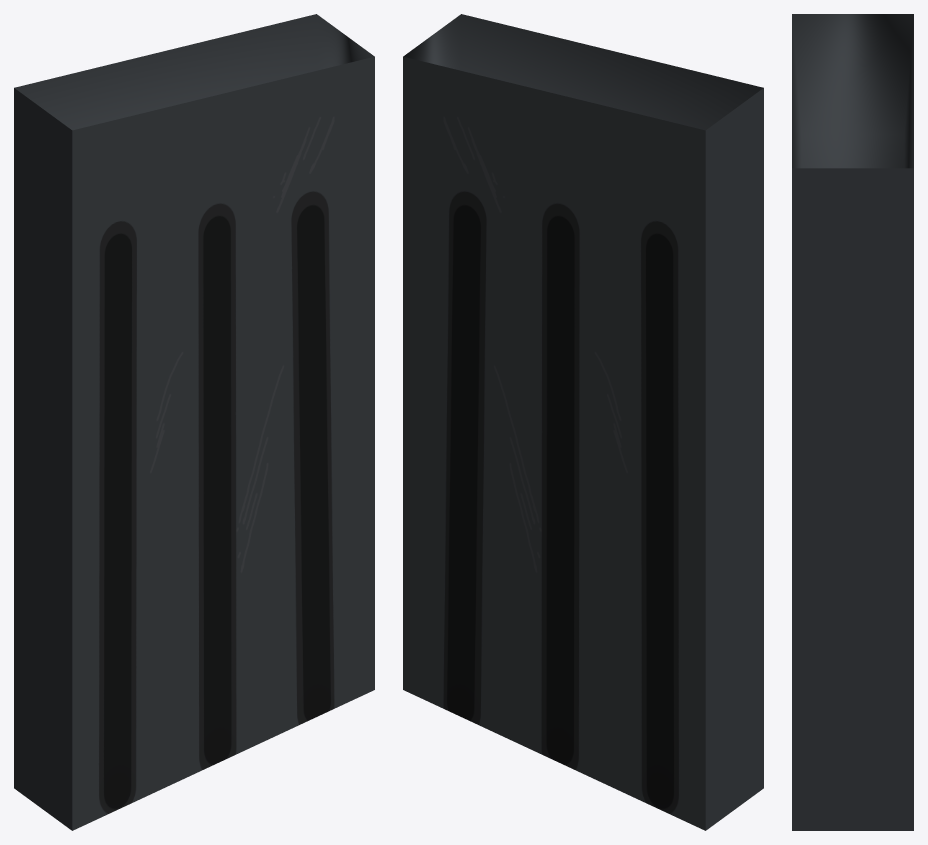
Rendered from RifleMagEmpty.fbx.
3 renders of one model, left to right at view 1: azimuth 30°, elevation 25°; view 2: azimuth 150°, elevation 25°; view 3: azimuth 270°, elevation 25°, orthographic. The views are drawn at different scales.
Visible parts, largest first — view 1: RifleMagEmpty; view 2: RifleMagEmpty; view 3: RifleMagEmpty.
Boxes of the visible parts, bbox=[...] form: RifleMagEmpty: bbox=[14, 14, 374, 830]; RifleMagEmpty: bbox=[403, 14, 763, 830]; RifleMagEmpty: bbox=[792, 14, 913, 830].
Size of the model in its own units: 3 by 6.64 by 1.
Materials: 1 (1 with a texture image).
